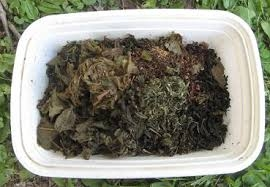kitchen_waste: (125, 79, 207, 151), (84, 65, 115, 109), (36, 120, 62, 148), (209, 60, 232, 91), (53, 105, 79, 132), (165, 35, 192, 60)
